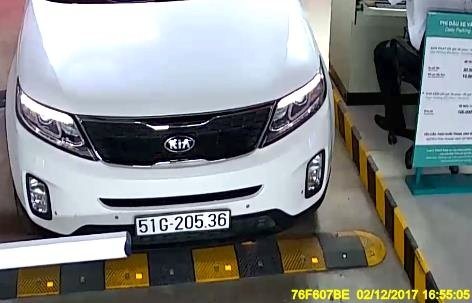plate: (132, 210, 233, 236)
